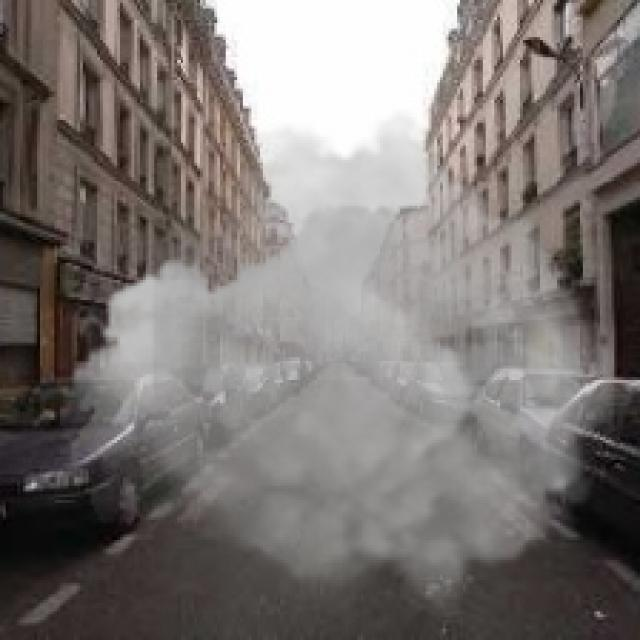smoke: (60, 108, 614, 623)
